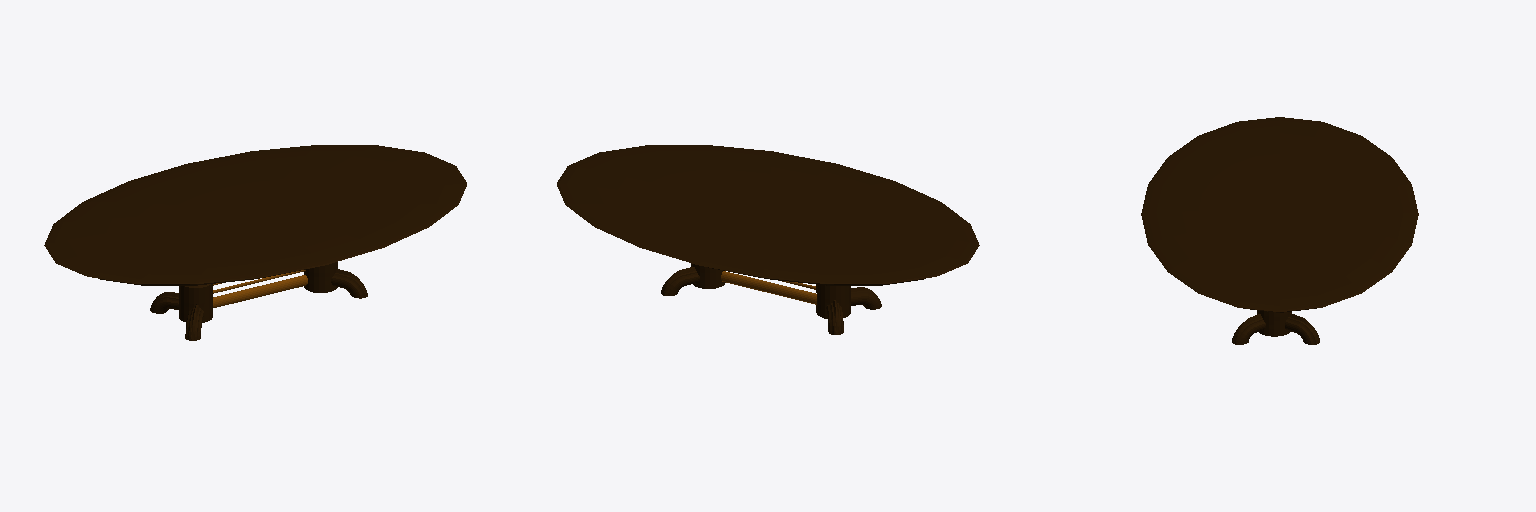
Rendered from table.obj.
The picture shows the model from 3 angles: view 1: azimuth 30°, elevation 25°; view 2: azimuth 150°, elevation 25°; view 3: azimuth 270°, elevation 25°; orthographic projection.
Parts seen in each view (by area): view 1: polySurface13; view 2: polySurface13; view 3: polySurface13.
Boxes of the visible parts, x1,y1,x2,y2 form: polySurface13: [44, 145, 466, 340]; polySurface13: [557, 145, 979, 334]; polySurface13: [1141, 117, 1418, 344].
Size of the model in its own units: 10.59 by 2.31 by 6.36.